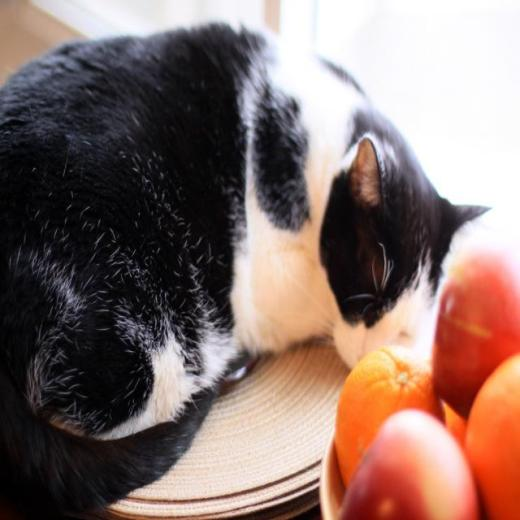Grape: (332, 346, 452, 480)
